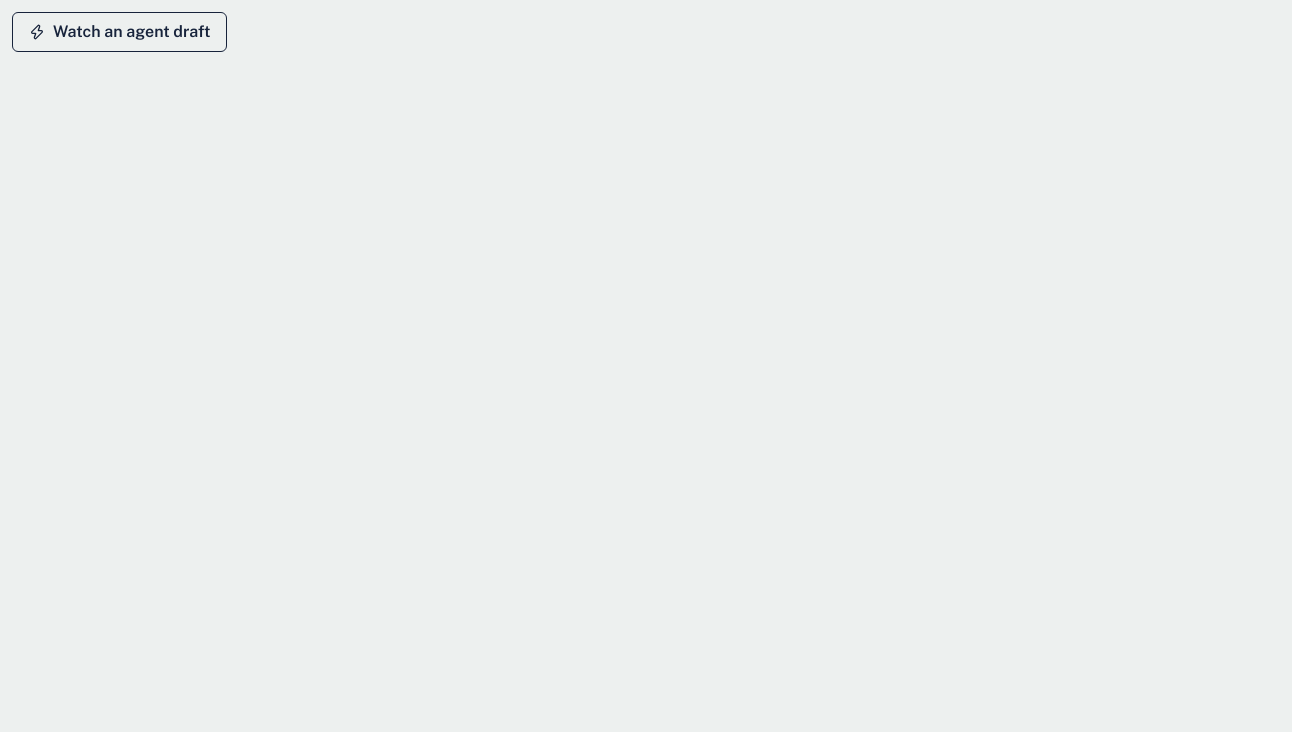
SimulateButton › still confirms the new card when the route can't name it
Click the button "Watch an agent draft" at (120, 32), box [12,12,228,52]
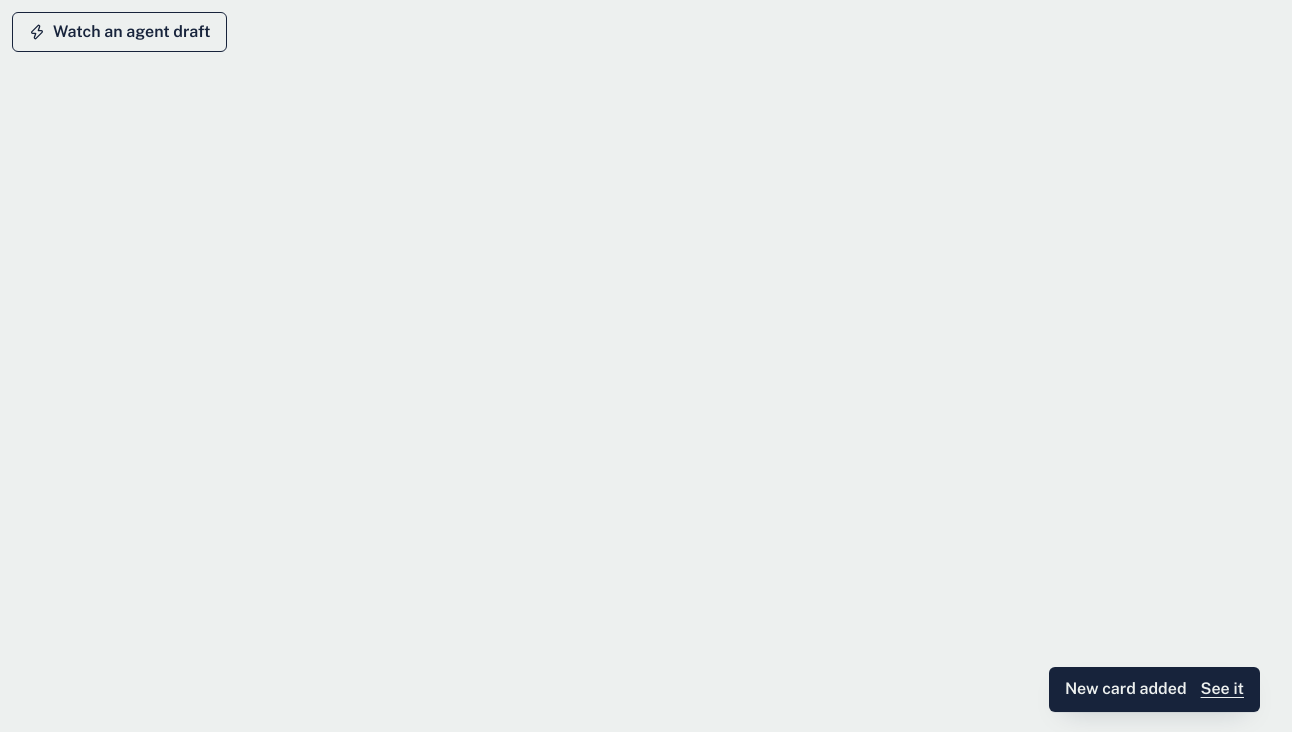
Check: the link "See it" is shown, box [1201,677,1244,702]
